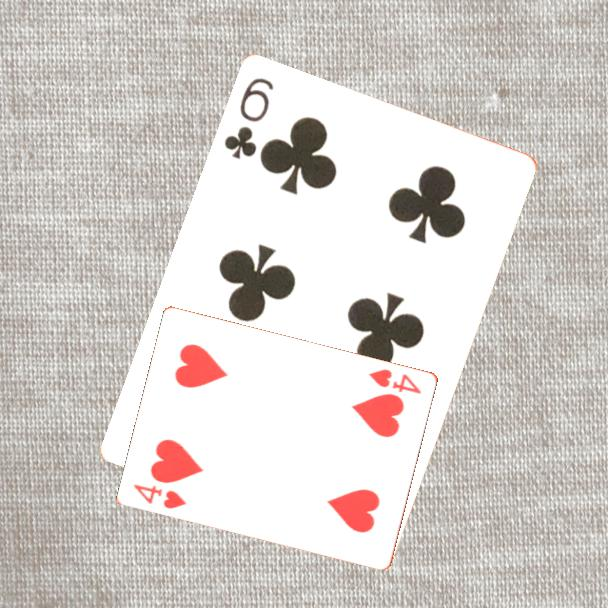c06: (221, 75, 277, 163)
h04: (365, 365, 425, 396), (130, 480, 190, 511)
